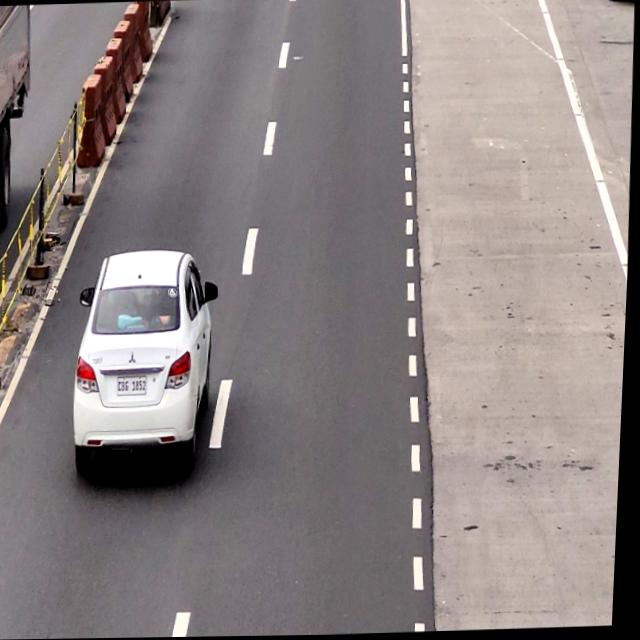Car: (75, 251, 220, 471)
License-Plate: (119, 378, 150, 394)
